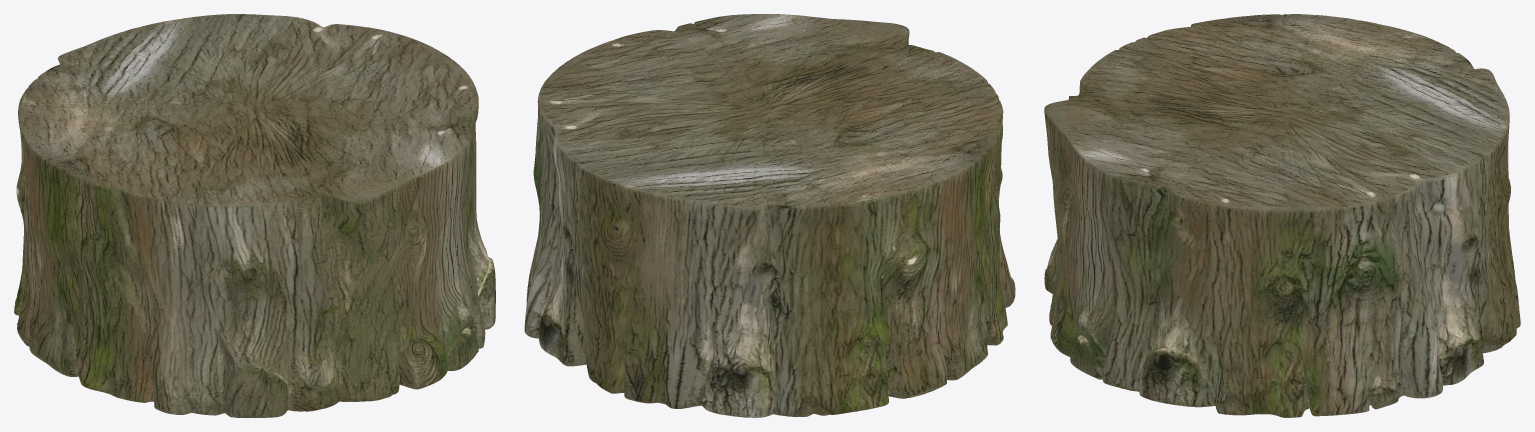
The model's file is stump.glb.
3 renders of one model, left to right at view 1: azimuth 30°, elevation 25°; view 2: azimuth 150°, elevation 25°; view 3: azimuth 270°, elevation 25°, orthographic.
Visible parts, largest first — view 1: Mesh1.0; view 2: Mesh1.0; view 3: Mesh1.0.
Part boxes in pixels (bbox=[...]): Mesh1.0: bbox=[14, 14, 495, 417]; Mesh1.0: bbox=[524, 14, 1015, 417]; Mesh1.0: bbox=[1044, 14, 1520, 417].
Bounding box in the file's own units: 1.91 × 0.9088 × 1.91.
Materials: 1 (1 with a texture image).
